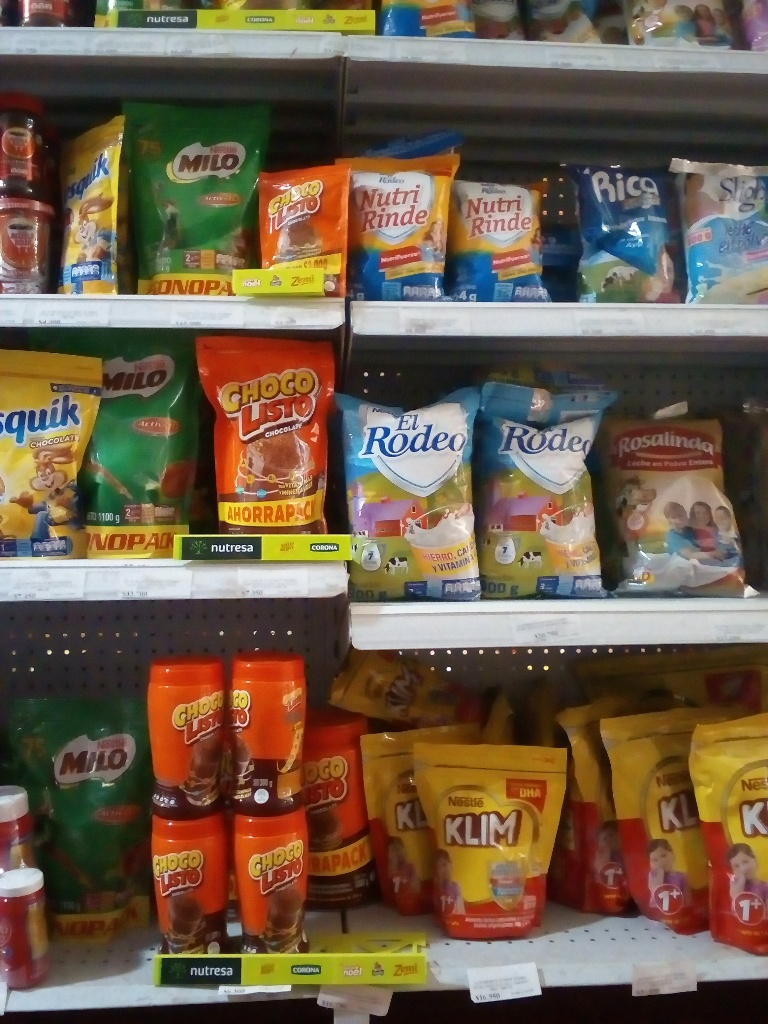COL0170103DYP44000: (201, 338, 343, 530)
COL0170103TRR00100: (298, 705, 380, 911)
COL0170303DYP20000: (0, 345, 99, 558)
